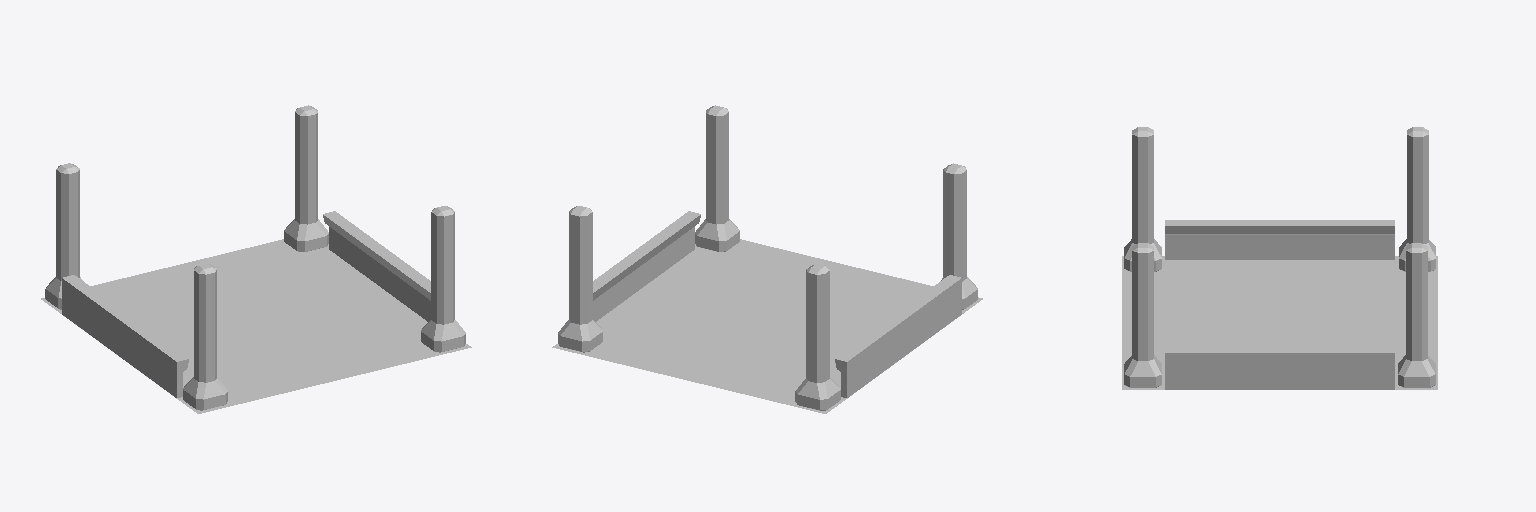
Rendered from custom.obj.
The picture shows the model from 3 angles: view 1: azimuth 30°, elevation 25°; view 2: azimuth 150°, elevation 25°; view 3: azimuth 270°, elevation 25°; orthographic projection.
Visible parts, largest first — view 1: customArea_立方体.001_立方体.007; view 2: customArea_立方体.001_立方体.007; view 3: customArea_立方体.001_立方体.007.
Part boxes in pixels (bbox=[...]): customArea_立方体.001_立方体.007: bbox=[41, 105, 471, 413]; customArea_立方体.001_立方体.007: bbox=[552, 105, 982, 413]; customArea_立方体.001_立方体.007: bbox=[1122, 127, 1437, 389].
Bounding box in the file's own units: 45.48 × 21.79 × 45.48.